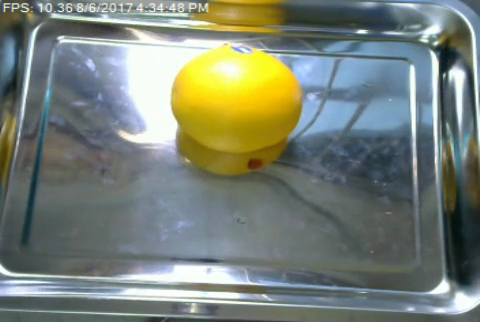Orange: (169, 44, 304, 153)
